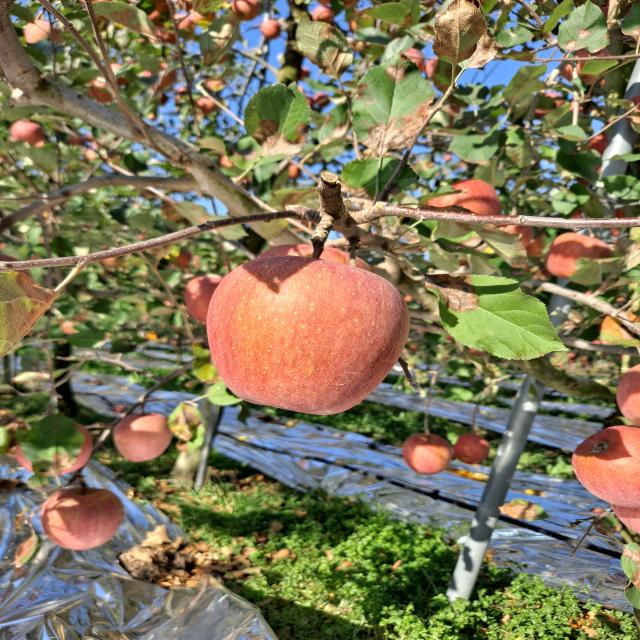fresh: (196, 238, 426, 421)
